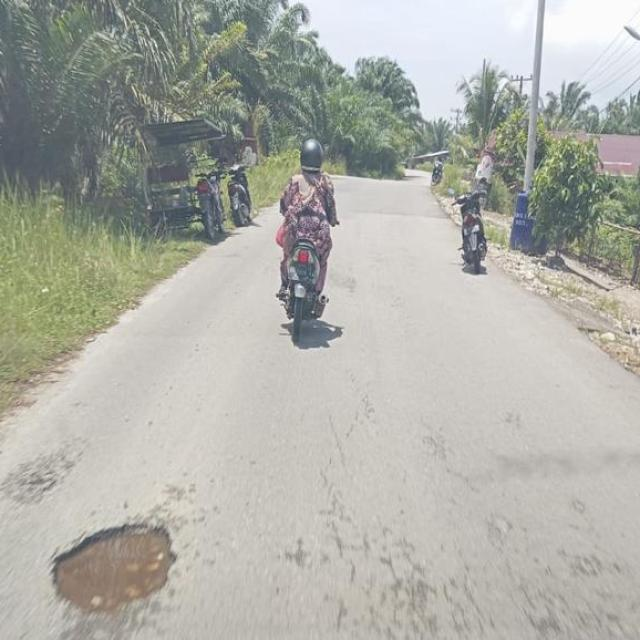Lubang: (44, 524, 177, 613)
